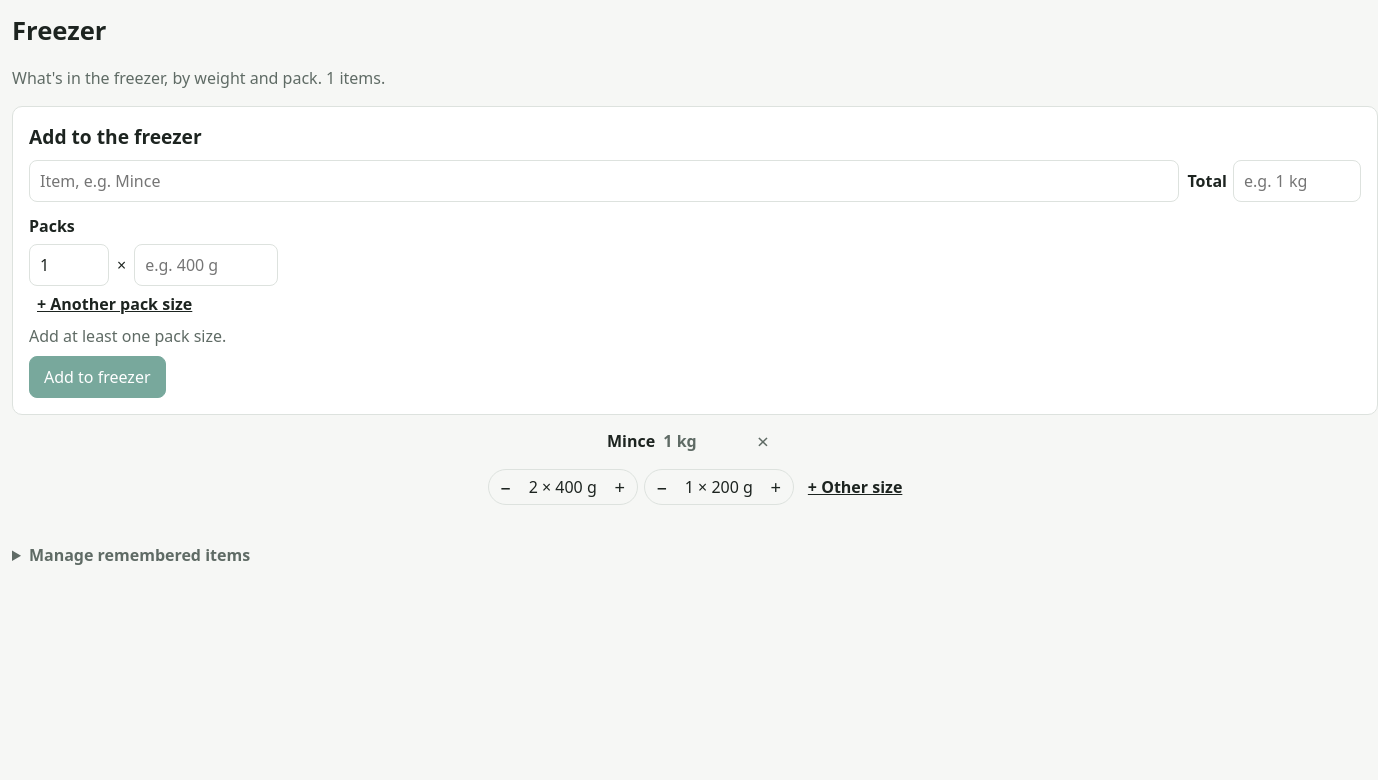
Test: FreezerPage › adds and removes single packs (F3)
Check: the text "Mince" is shown, box [607, 430, 655, 452]
Click the button named "Add a 400 g pack of Mince": (620, 487) [603, 470, 637, 504]
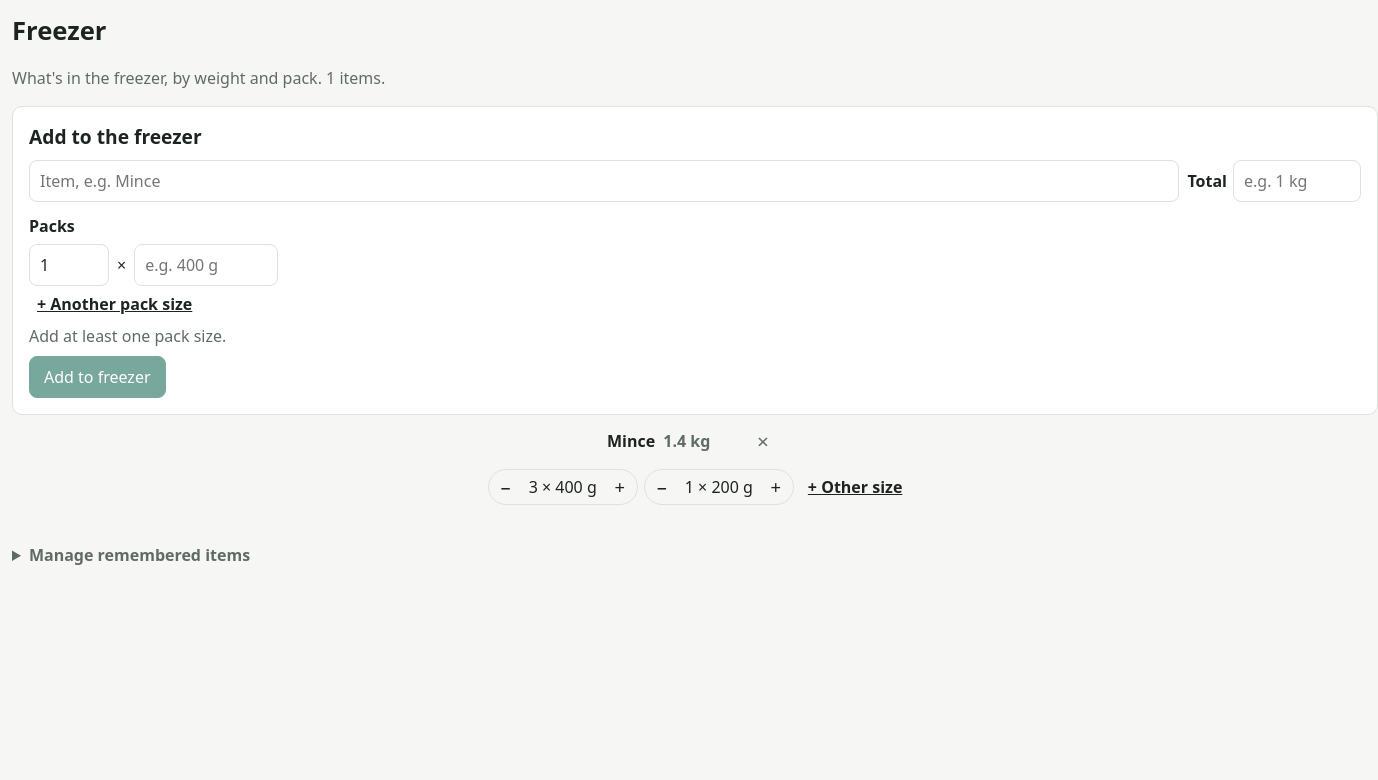
Check: the text "3 × 400 g" is shown, box [523, 475, 603, 499]
Click the button named "Use one 200 g pack of Mince": (662, 487) [645, 470, 679, 504]
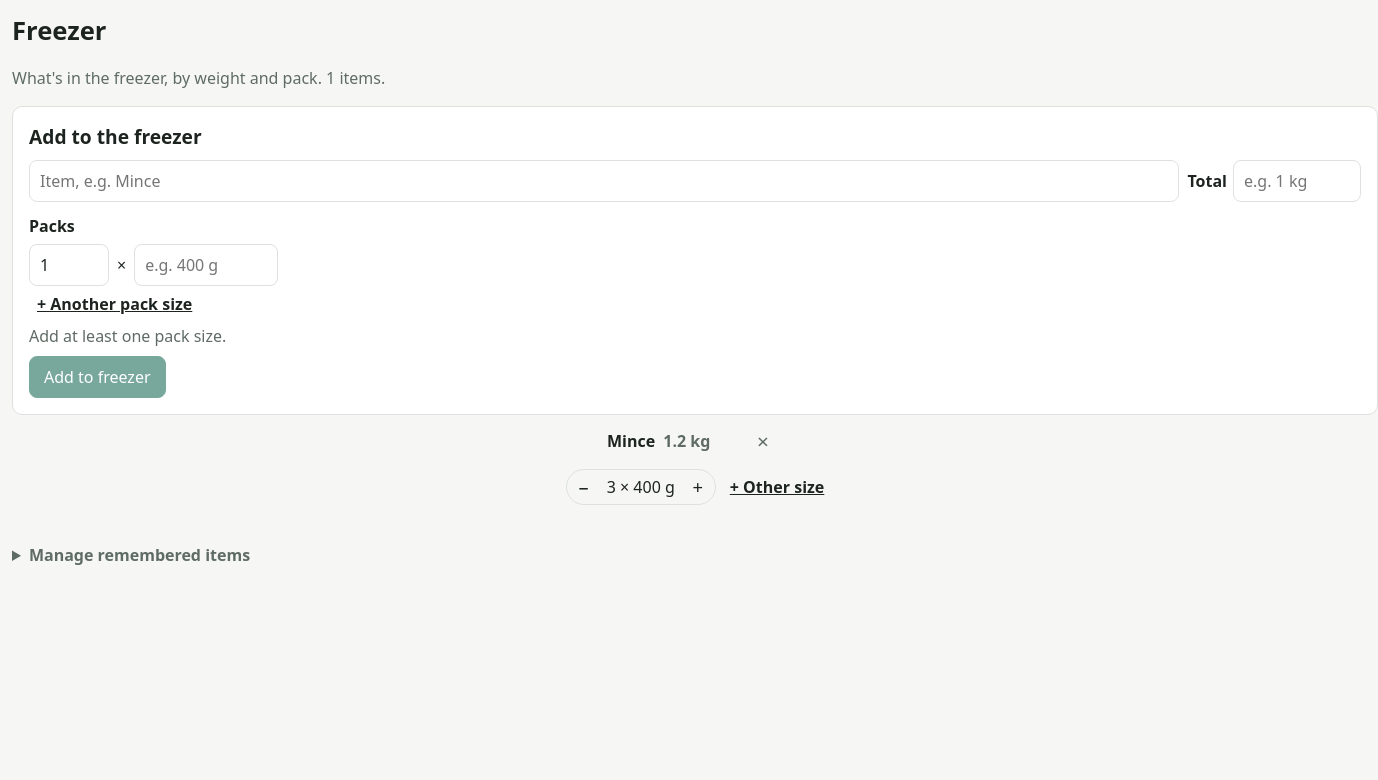
Check: the text "1 × 200 g" is gone
